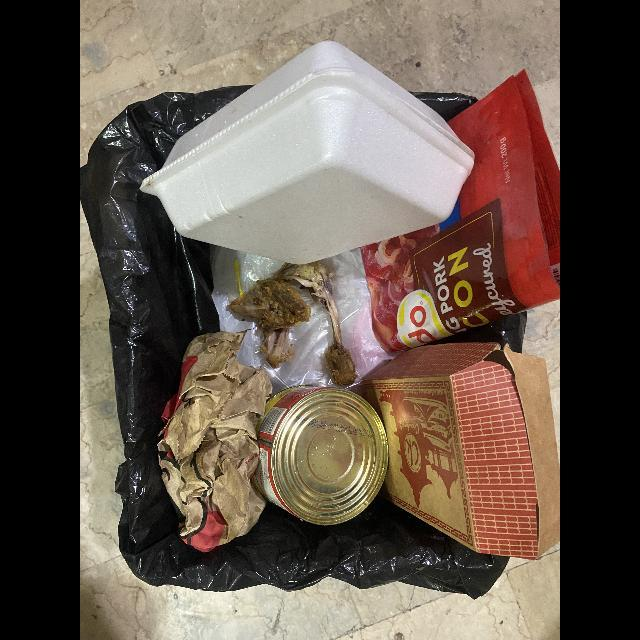biowaste: (227, 262, 357, 388)
metal: (252, 385, 388, 525)
paper: (363, 342, 560, 560), (157, 329, 273, 553)
styrofoam: (139, 41, 476, 265)
wrapper: (362, 67, 560, 356)
